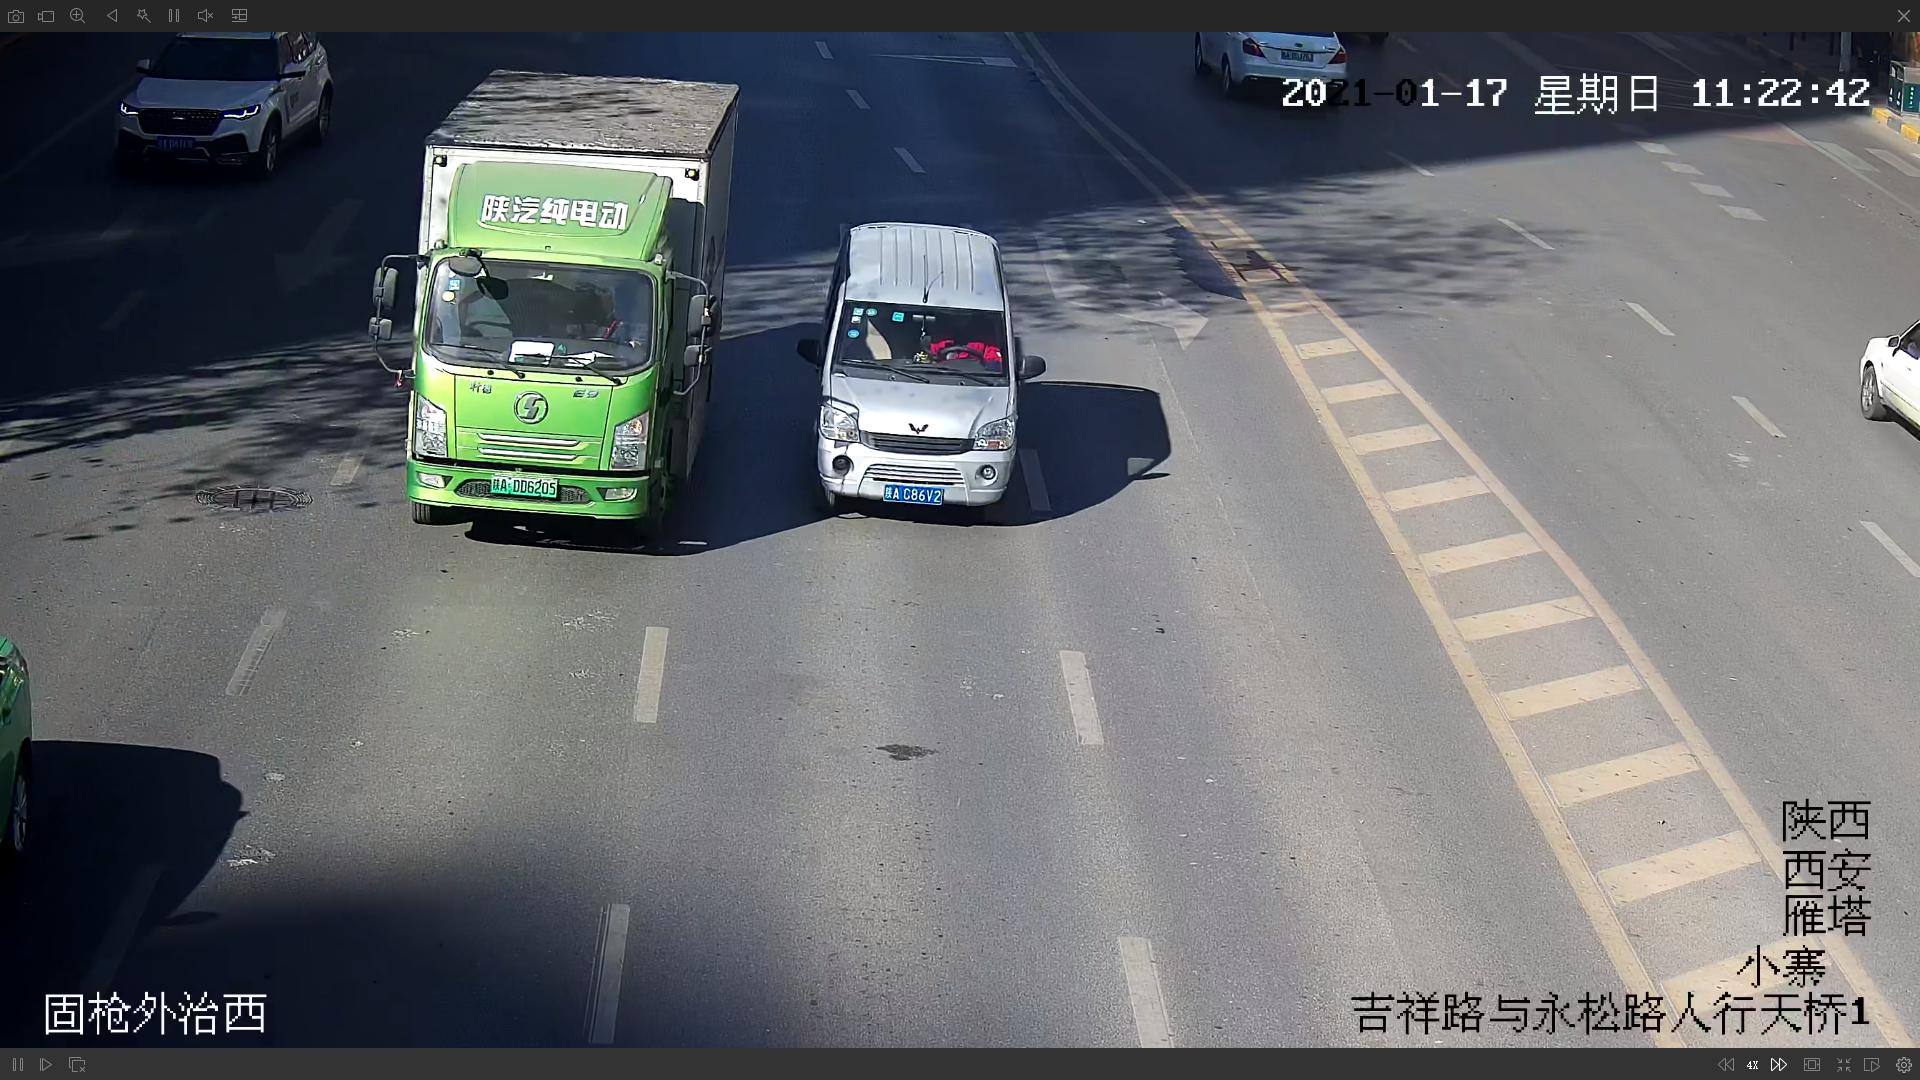grass-green: (365, 84, 753, 535)
silver-gray: (812, 227, 1022, 531)
white: (113, 29, 328, 171)
